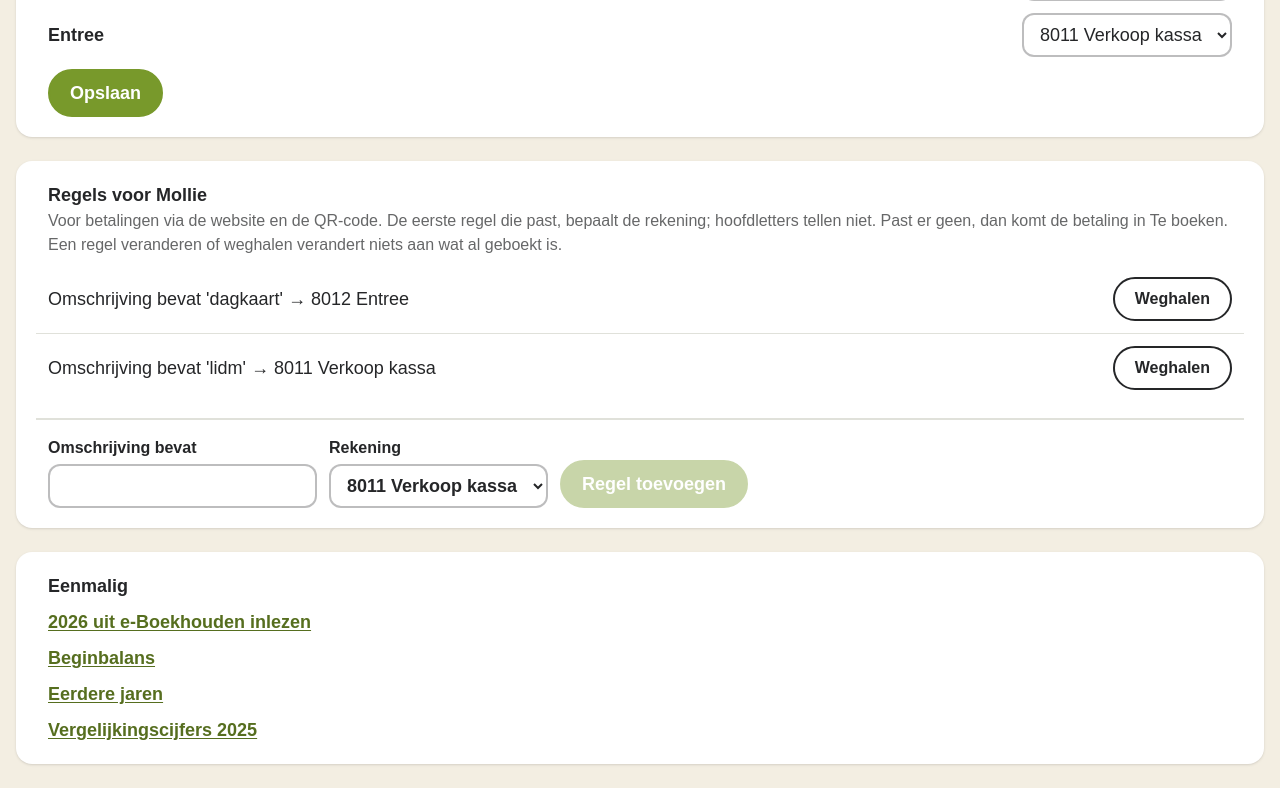
lets the penningmeester set the rules for Mollie's other payments
The width and height of the screenshot is (1280, 788).
(page scrolled)
Expected: the text "Omschrijving bevat 'dagkaart' → 8012 Entree" is shown, [48,285,409,313]
Expected: the text "Omschrijving bevat 'lidm' → 8011 Verkoop kassa" is shown, [48,354,436,382]
Step 1. Type " Donatie " into the field labelled "Omschrijving bevat" → (182, 486), box [48,464,317,508]
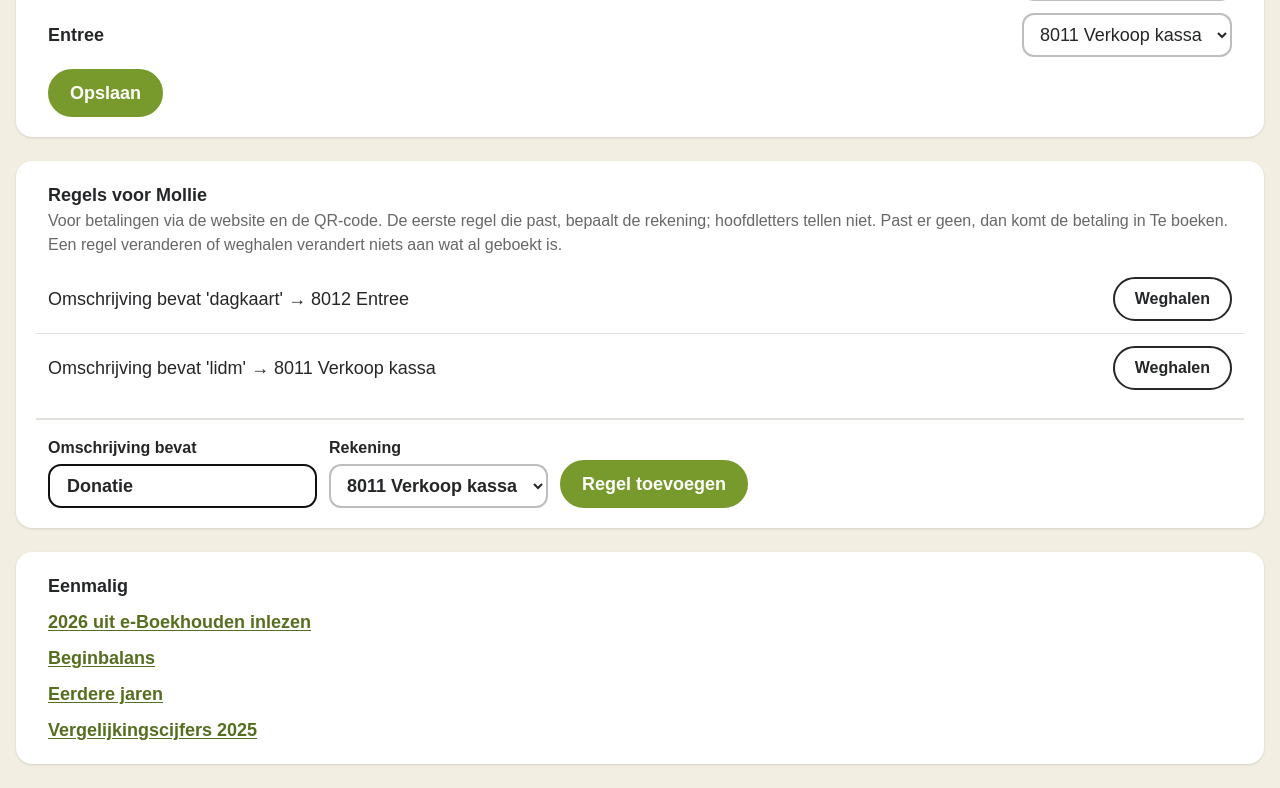
Step 2. Select "8012 Entree" in the dropdown labelled "Rekening" → (438, 486), box [329,464,548,508]
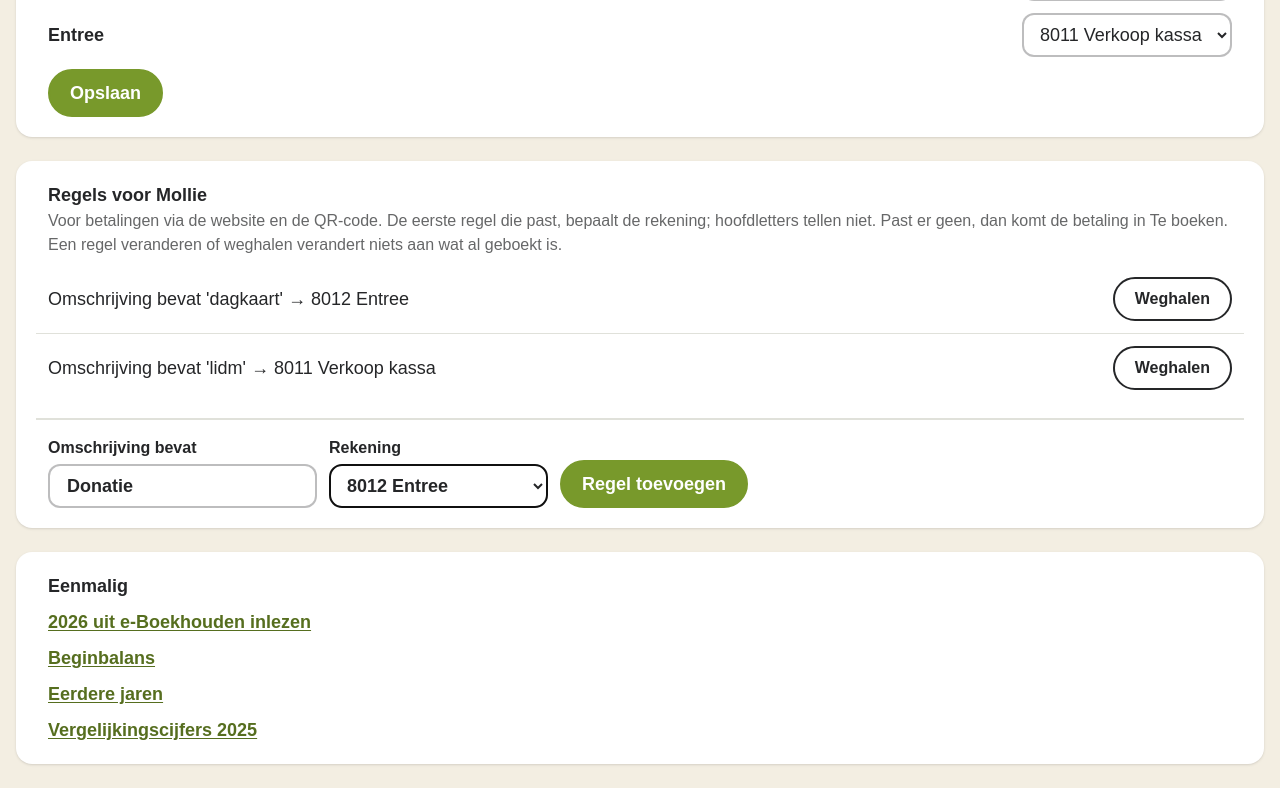
Step 3. Click the button "Regel toevoegen" → (654, 484), box [560,460,748,508]
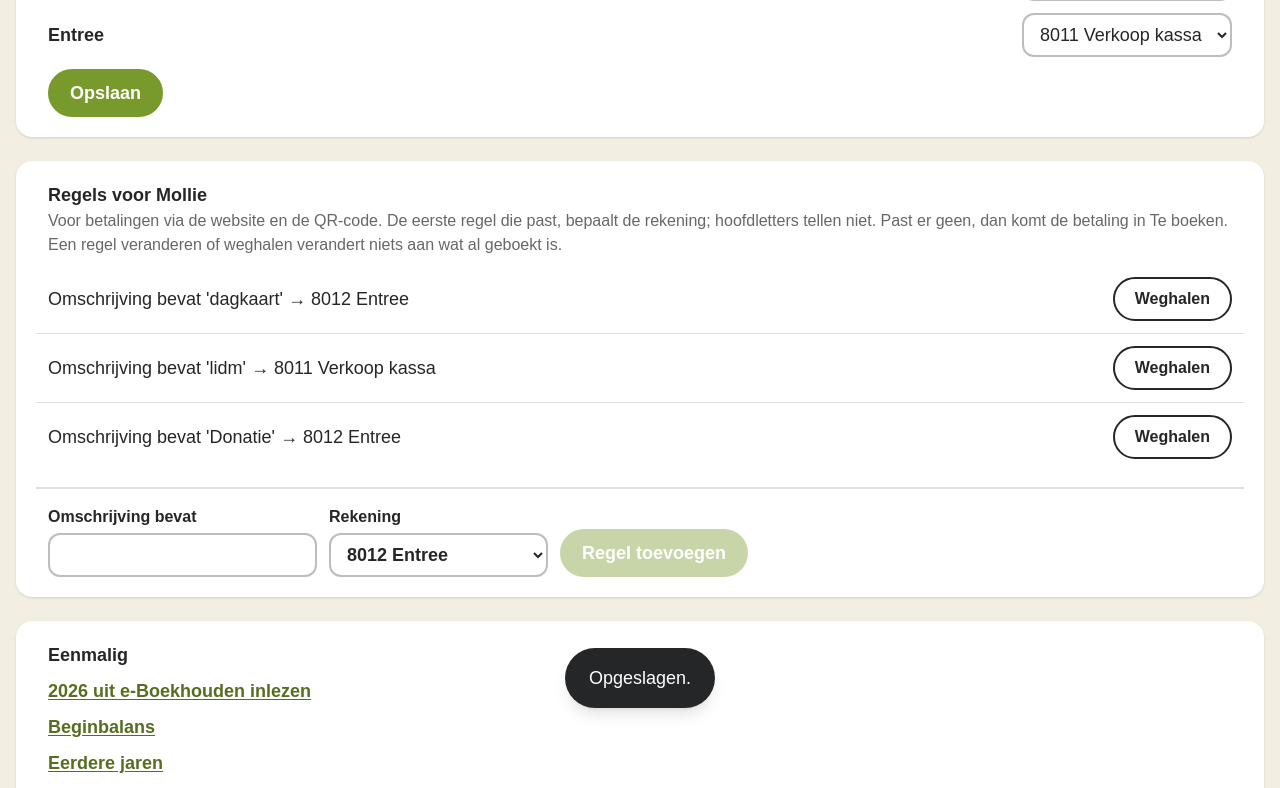
Expected: the text "Omschrijving bevat 'Donatie' → 8012 Entree" is shown, [48,423,401,451]
Expected: the field labelled "Omschrijving bevat" is empty, [48,533,317,577]
Step 4. Click the 1st button "Weghalen" → (1172, 299), box [1113,277,1232,321]
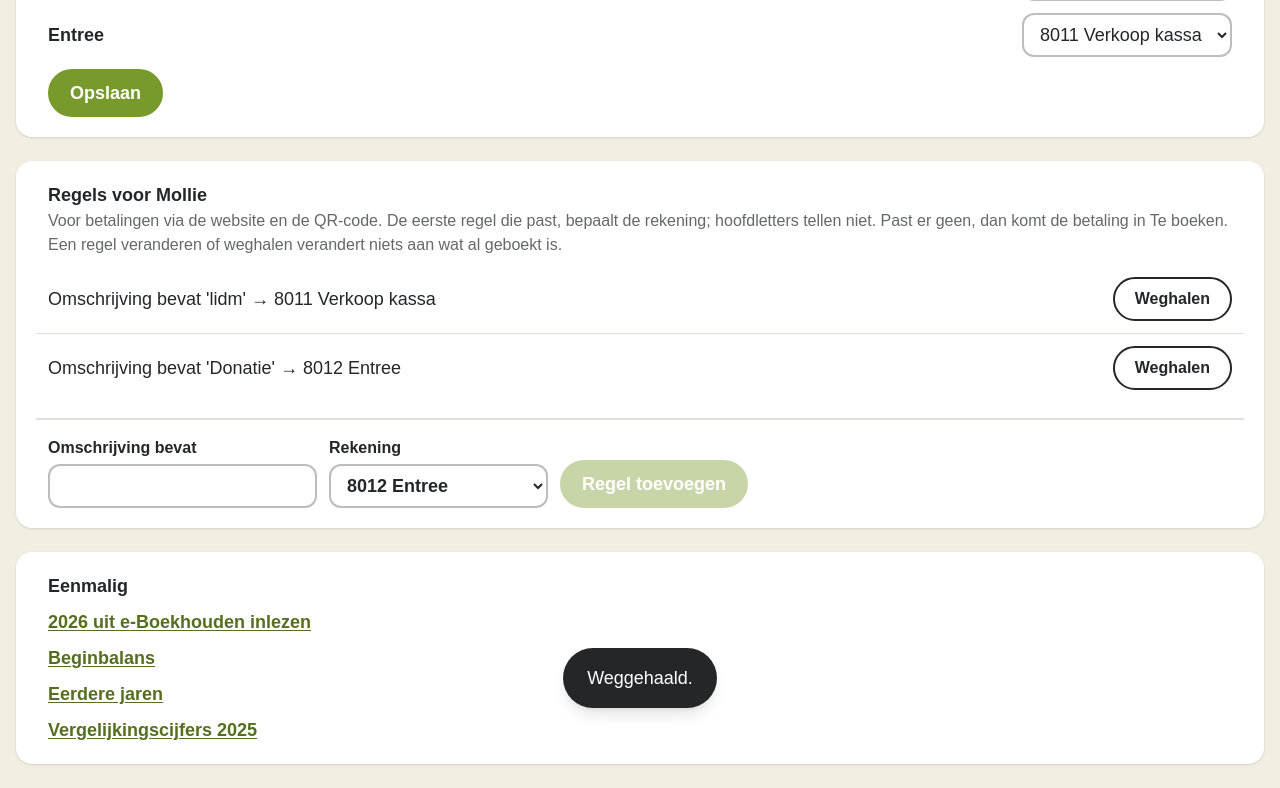
Expected: the text "Omschrijving bevat 'dagkaart' → 8012 Entree" is gone
